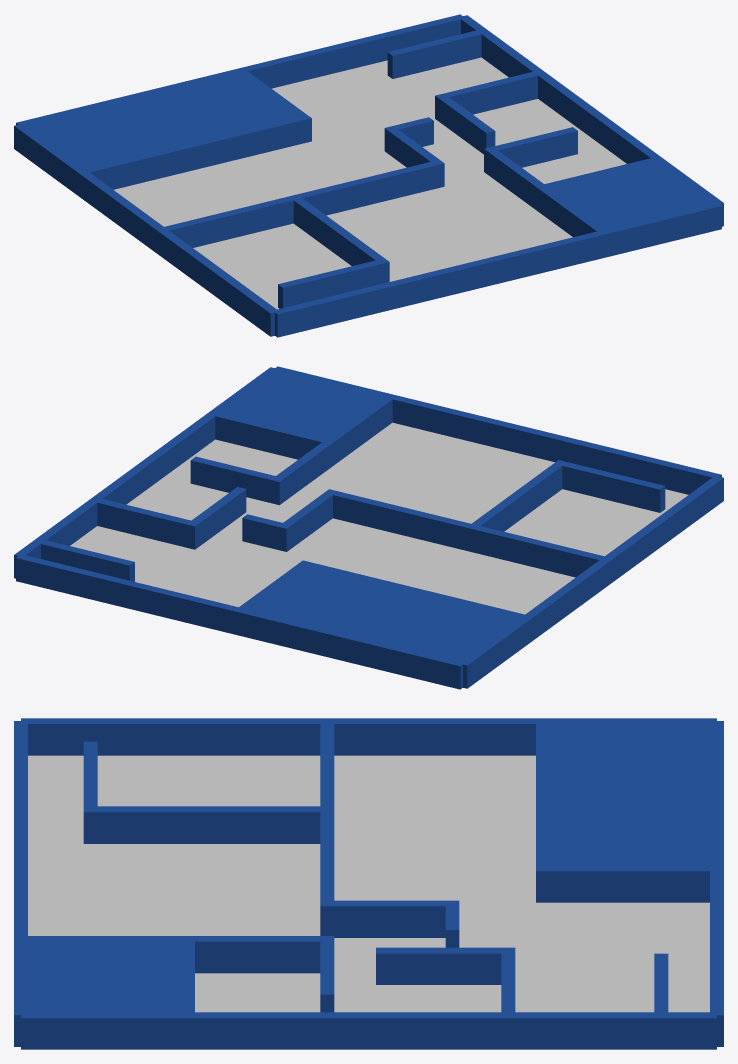
File: LevelOne.obj
3 views of the same model, one above another, from view 1: azimuth 30°, elevation 25°; view 2: azimuth 150°, elevation 25°; view 3: azimuth 270°, elevation 25° (orthographic). The views are drawn at different scales.
Visible parts, largest first — view 1: Plane, Cube.002_Cube.003, Cube.015_Cube.021, Cube.014_Cube.020, Cube.004_Cube.005, Cube_Cube.001, Cube.008, Cube.003_Cube.004, Cube.001_Cube.002, Cube.016_Cube.022, Cube.012_Cube.018, Cube.013_Cube.019 (+6 smaller); view 2: Plane, Cube.003_Cube.004, Cube.004_Cube.005, Cube.002_Cube.003, Cube_Cube.001, Cube.008, Cube.014_Cube.020, Cube.015_Cube.021, Cube.001_Cube.002, Cube.013_Cube.019, Cube.009_Cube.015, Cube.012_Cube.018 (+6 smaller); view 3: Plane, Cube.001_Cube.002, Cube_Cube.001, Cube.015_Cube.021, Cube.004_Cube.005, Cube.014_Cube.020, Cube.012_Cube.018, Cube.007_Cube.014, Cube.005_Cube.006, Cube.010_Cube.016, Cube.003_Cube.004, Cube.002_Cube.003 (+6 smaller).
Part boxes in pixels (x1,y1,x2,y2): Plane: (114, 57, 626, 309); Cube.002_Cube.003: (273, 204, 721, 337); Cube.015_Cube.021: (137, 71, 311, 168); Cube.014_Cube.020: (25, 98, 200, 189); Cube.004_Cube.005: (535, 157, 718, 237); Cube_Cube.001: (14, 123, 276, 336); Cube.008: (164, 162, 435, 247); Cube.003_Cube.004: (16, 14, 464, 126); Cube.001_Cube.002: (459, 15, 723, 226); Cube.016_Cube.022: (387, 30, 481, 78); Cube.012_Cube.018: (293, 198, 389, 283); Cube.013_Cube.019: (278, 260, 380, 308); Plane: (70, 422, 687, 614); Cube.003_Cube.004: (16, 554, 464, 689); Cube.004_Cube.005: (211, 368, 394, 467); Cube.002_Cube.003: (275, 366, 721, 494); Cube_Cube.001: (461, 476, 723, 688); Cube.008: (333, 491, 604, 577); Cube.014_Cube.020: (350, 587, 524, 661); Cube.015_Cube.021: (239, 560, 413, 634); Cube.001_Cube.002: (14, 367, 278, 578); Cube.013_Cube.019: (562, 462, 665, 512); Cube.009_Cube.015: (97, 499, 190, 547); Cube.012_Cube.018: (471, 460, 567, 531); Plane: (28, 755, 709, 1012); Cube.001_Cube.002: (21, 1012, 716, 1049); Cube_Cube.001: (21, 718, 716, 755); Cube.015_Cube.021: (536, 797, 709, 902); Cube.004_Cube.005: (21, 936, 194, 1013); Cube.014_Cube.020: (536, 724, 709, 797); Cube.012_Cube.018: (83, 806, 320, 843); Cube.007_Cube.014: (376, 947, 515, 984); Cube.005_Cube.006: (195, 936, 334, 973); Cube.010_Cube.016: (320, 900, 445, 937); Cube.003_Cube.004: (710, 721, 723, 1046); Cube.002_Cube.003: (14, 721, 27, 1046).
Bounding box in the file's own units: 102 × 5 × 102.
